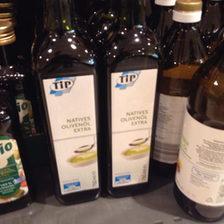oil: (32, 2, 102, 205), (99, 1, 160, 199), (172, 20, 224, 221)
